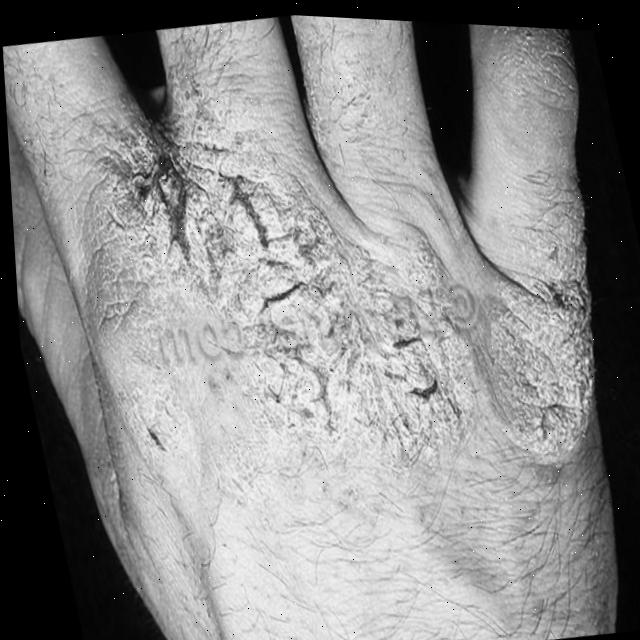Eczema: (81, 128, 615, 511)
